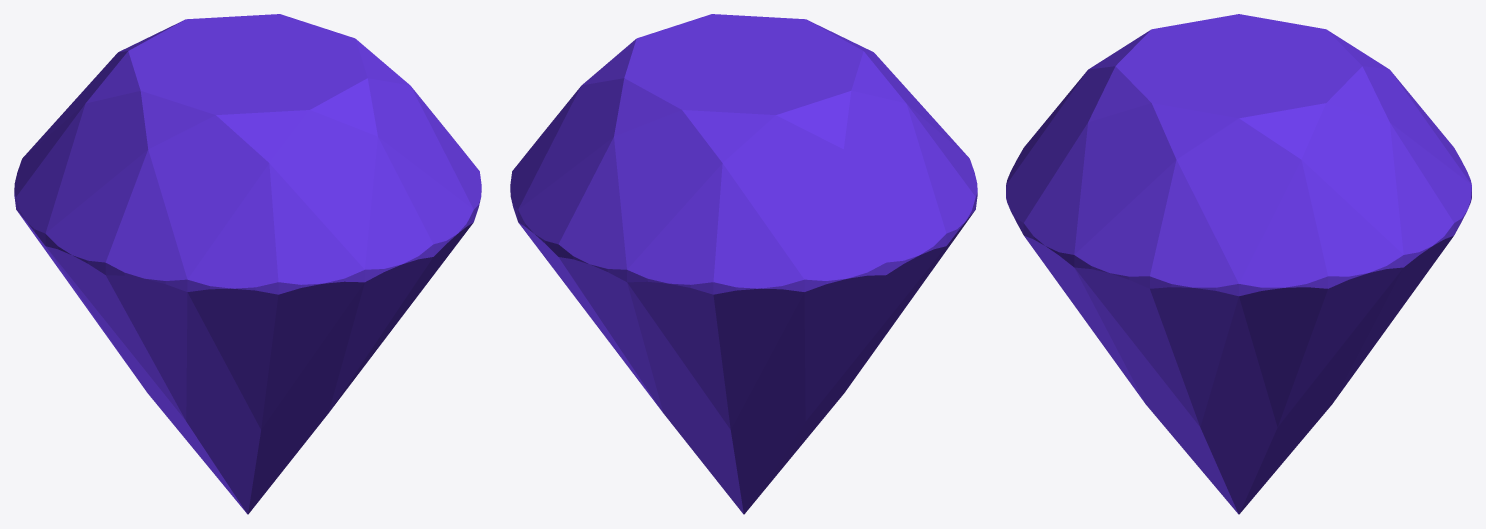
Rendered from newpinball_cristal.fbx.
3 renders of one model, left to right at view 1: azimuth 30°, elevation 25°; view 2: azimuth 150°, elevation 25°; view 3: azimuth 270°, elevation 25°, orthographic.
Parts seen in each view (by area): view 1: cristal; view 2: cristal; view 3: cristal.
Boxes of the visible parts, x1,y1,x2,y2 form: cristal: (14,14,481,514); cristal: (510,14,977,514); cristal: (1006,14,1471,514).
Size of the model in its own units: 9.84 by 10.46 by 9.84.
